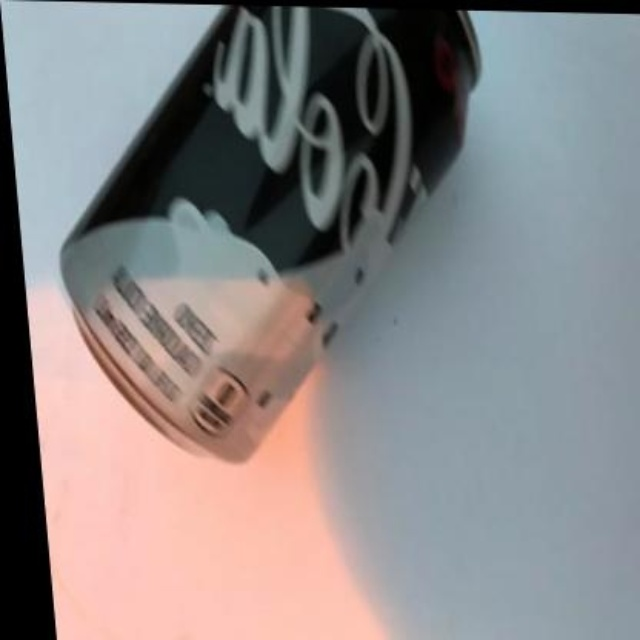trash: (62, 6, 477, 460)
